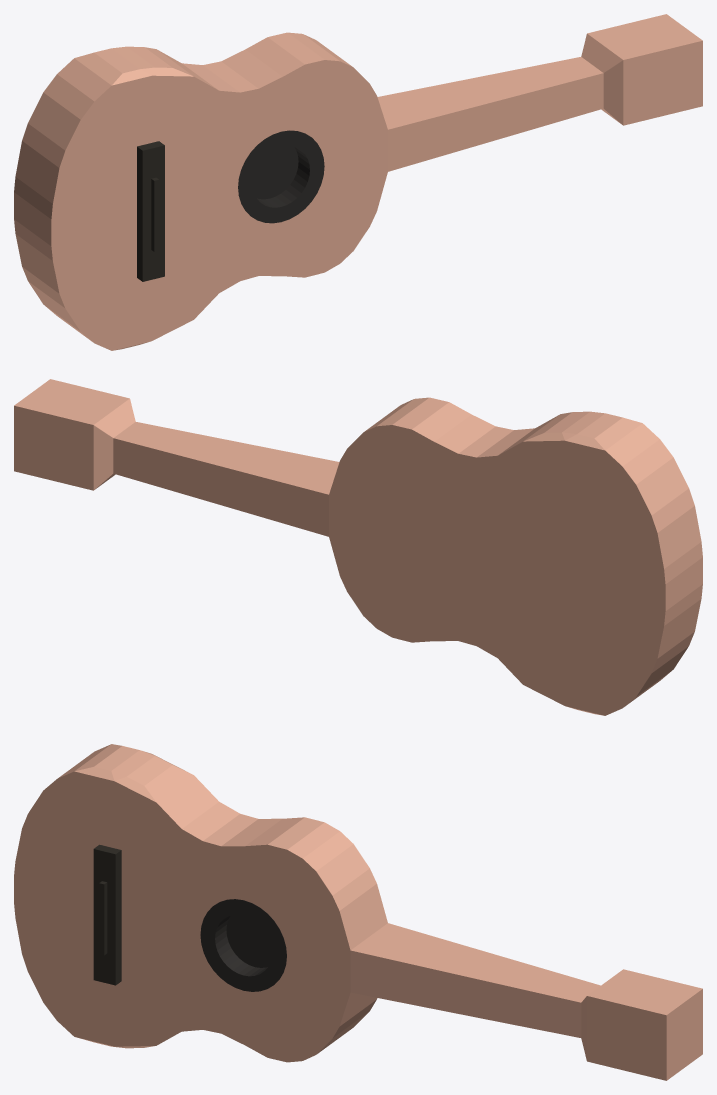
Rendered from GuitarNormals.fbx.
The picture shows the model from 3 angles, top to bottom: view 1: azimuth 30°, elevation 25°; view 2: azimuth 150°, elevation 25°; view 3: azimuth 330°, elevation 25°; orthographic projection.
Visible parts, largest first — view 1: Cube, Cylinder.002, Cube.001; view 2: Cube; view 3: Cube, Cylinder.002, Cube.001.
Boxes of the visible parts, x1,y1,x2,y2 form: Cube: (14,14,702,350); Cylinder.002: (238,130,324,223); Cube.001: (137,141,164,281); Cube: (14,379,702,715); Cube: (14,744,702,1080); Cylinder.002: (200,899,286,991); Cube.001: (93,844,121,985).
Size of the model in its own units: 390 by 158 by 47.89.
